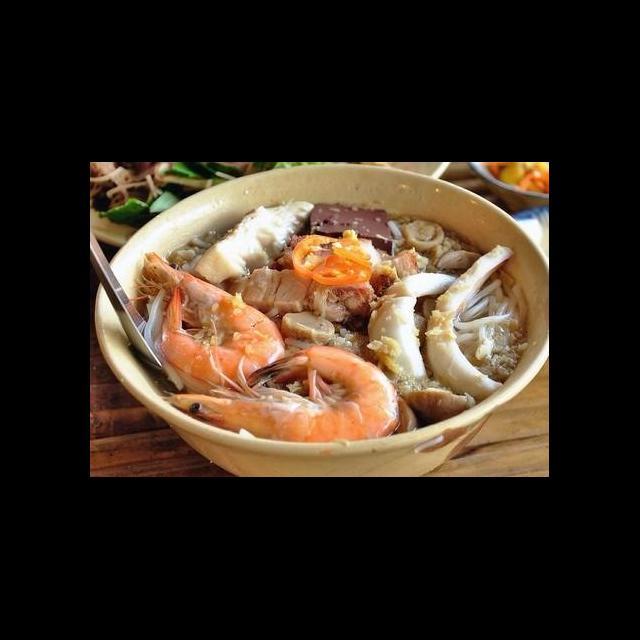bun: (448, 278, 532, 380)
bun hai san: (93, 199, 550, 478)
ca: (190, 194, 318, 288)
muc: (422, 240, 520, 402), (364, 272, 466, 391)
thit heo quay: (220, 262, 378, 324)
tom: (156, 339, 406, 446), (120, 248, 292, 392)
